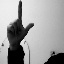l: (5, 1, 35, 49)
